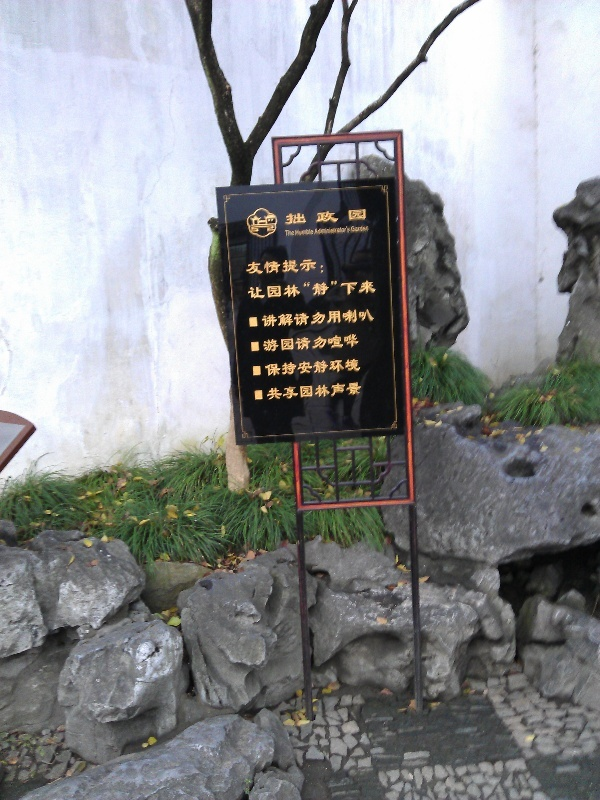text: (257, 278, 272, 302), (273, 278, 288, 302), (289, 278, 304, 302), (305, 278, 320, 302), (321, 278, 336, 302), (337, 278, 352, 302), (353, 278, 368, 302), (257, 257, 272, 278), (273, 257, 288, 278), (289, 257, 304, 278), (305, 257, 320, 278), (273, 308, 288, 329), (289, 308, 304, 329), (305, 308, 320, 329), (321, 308, 336, 329), (337, 308, 352, 329), (353, 308, 368, 329), (273, 333, 288, 354), (289, 333, 304, 354), (305, 333, 320, 354), (321, 333, 336, 354), (337, 333, 352, 354), (273, 357, 288, 378), (289, 357, 304, 378), (305, 357, 320, 378), (321, 357, 336, 378), (337, 357, 352, 378), (273, 382, 288, 402), (289, 382, 304, 402), (305, 382, 320, 402), (321, 382, 336, 402), (337, 382, 352, 402), (289, 208, 304, 226), (305, 208, 320, 226), (321, 208, 336, 226), (337, 208, 352, 226), (353, 208, 368, 226), (245, 257, 256, 278), (261, 308, 272, 329), (247, 278, 256, 302), (353, 382, 363, 402), (369, 278, 377, 302), (263, 333, 272, 354), (353, 357, 362, 378), (264, 357, 272, 378), (353, 333, 360, 354), (321, 226, 336, 235), (369, 308, 375, 329), (337, 226, 351, 235), (266, 382, 272, 402), (353, 225, 368, 233), (321, 257, 325, 278), (284, 208, 288, 226), (295, 229, 304, 236), (305, 229, 314, 236), (314, 226, 320, 235), (289, 230, 295, 238), (285, 230, 288, 238), (351, 225, 352, 233), (369, 225, 370, 233)
